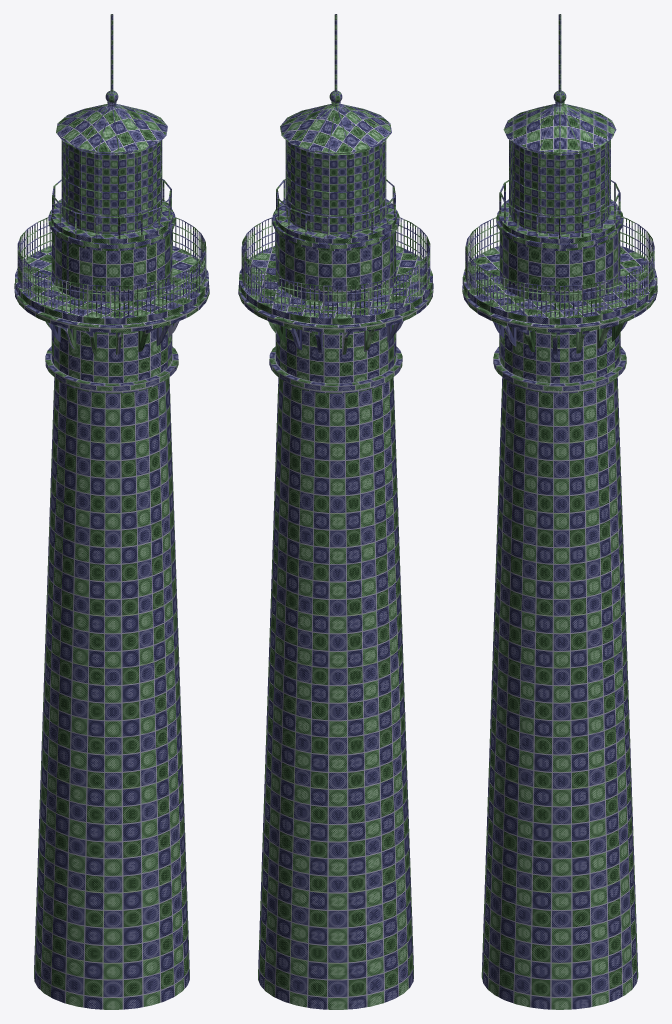
Rendered from Lighthouse_uvfix2.fbx.
3 renders of one model, left to right at view 1: azimuth 30°, elevation 25°; view 2: azimuth 150°, elevation 25°; view 3: azimuth 270°, elevation 25°, orthographic.
Visible parts, largest first — view 1: Cylinder, Circle.002, Circle, Circle.003, Plane, Circle.001; view 2: Cylinder, Circle.002, Circle, Circle.003, Plane, Circle.001; view 3: Cylinder, Circle.002, Circle, Circle.003, Plane, Circle.001.
Boxes of the visible parts, <box> form: Cylinder: <box>14,199,209,1009</box>; Circle.002: <box>61,140,162,234</box>; Circle: <box>17,217,206,317</box>; Circle.003: <box>56,101,167,155</box>; Plane: <box>46,321,179,354</box>; Circle.001: <box>52,179,171,238</box>; Cylinder: <box>238,199,433,1009</box>; Circle.002: <box>285,140,386,234</box>; Circle: <box>241,217,430,317</box>; Circle.003: <box>280,101,391,155</box>; Plane: <box>268,321,403,354</box>; Circle.001: <box>276,179,395,238</box>; Cylinder: <box>462,199,657,1009</box>; Circle.002: <box>509,140,610,234</box>; Circle: <box>465,217,654,317</box>; Circle.003: <box>503,101,616,155</box>; Plane: <box>493,321,627,354</box>; Circle.001: <box>499,180,620,238</box>.
Bounding box in the file's own units: 249 × 1356 × 249.
1 material, 1 textured.
